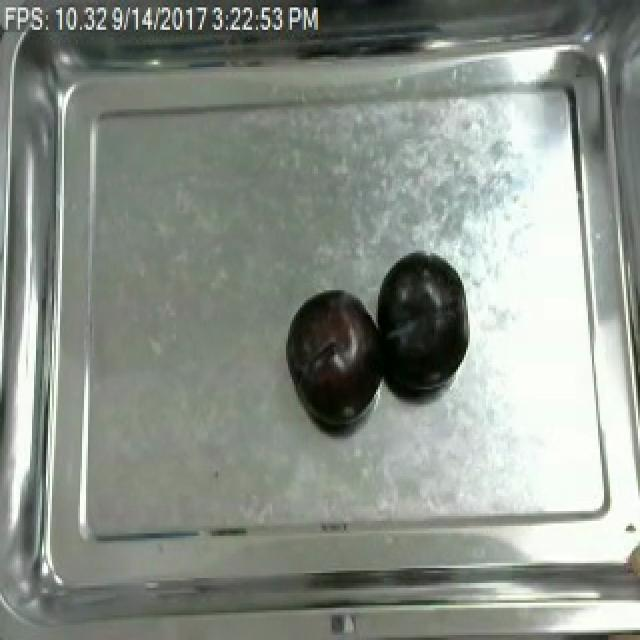Fruit: (370, 246, 474, 400), (280, 285, 384, 427)
